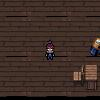Obstacle: (72, 62, 100, 92)
Victim: (41, 38, 58, 62)
Win: (84, 36, 100, 56)
